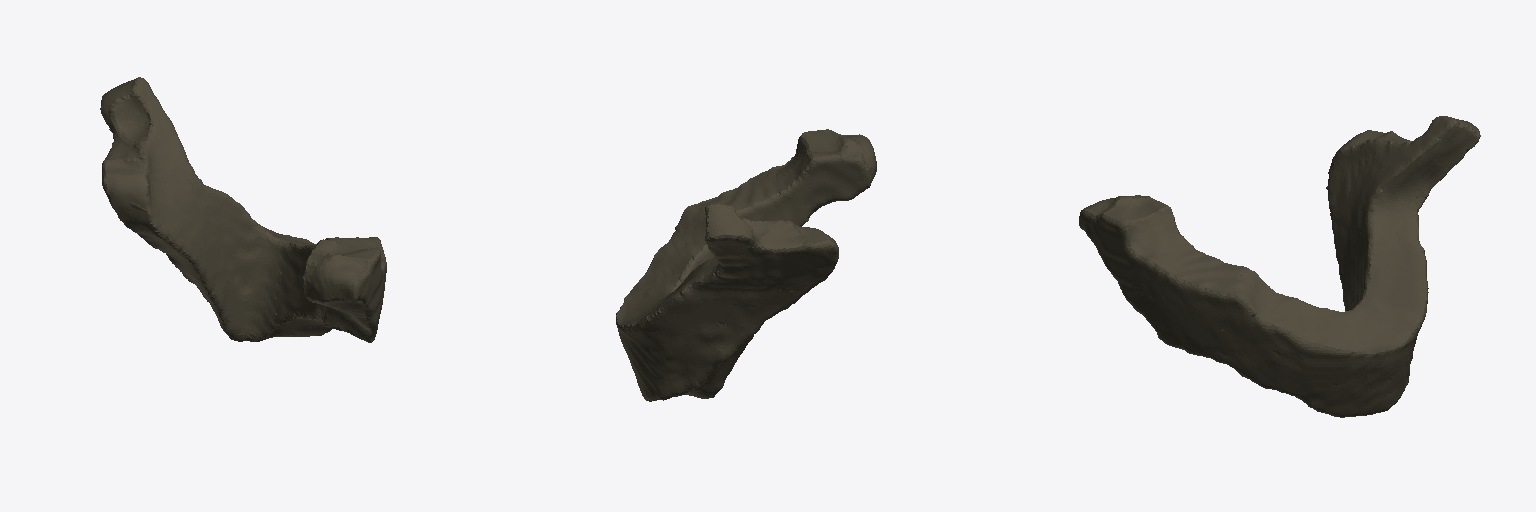
File: Model_144_RH__Visual_area_3_(ventrolateral_posterior_area)_(V3).obj
3 renders of one model, left to right at view 1: azimuth 30°, elevation 25°; view 2: azimuth 150°, elevation 25°; view 3: azimuth 270°, elevation 25°, orthographic.
Size of the model in its own units: 7.17 by 7.59 by 11.28.